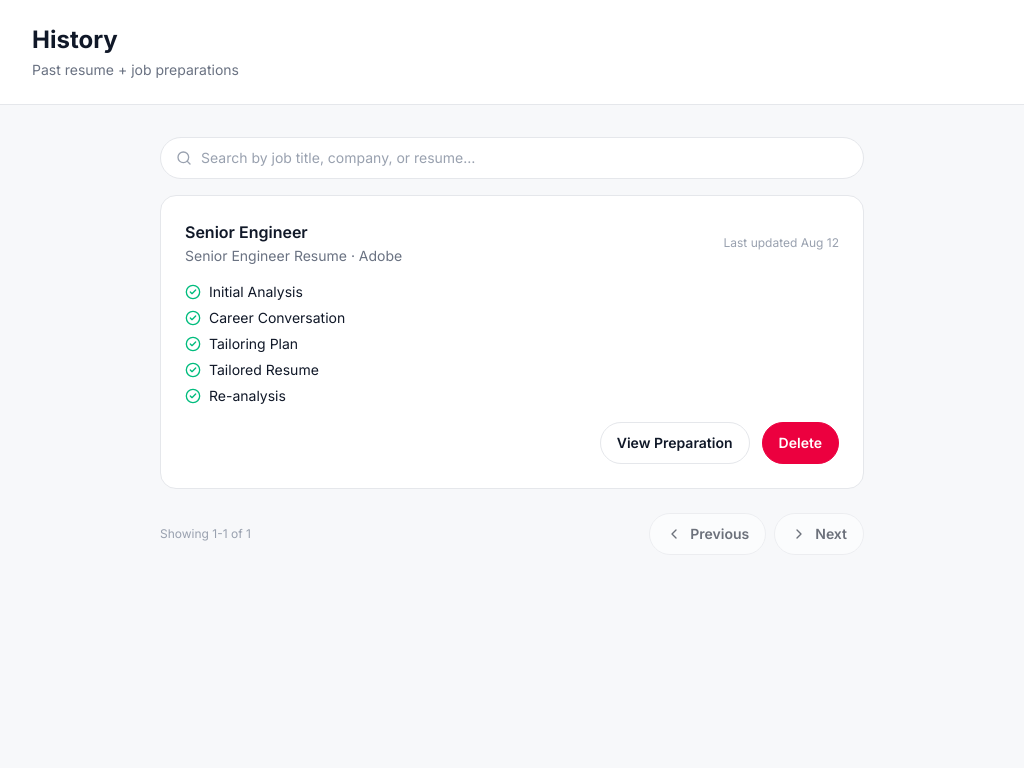
HistoryPage › opens a preparation and renders its persisted checkpoint data
Check: the heading "Senior Engineer" is shown, box x1=185 y1=222 x2=308 y2=242
Click the button "View Preparation" at (675, 443), box x1=600 y1=422 x2=750 y2=464
(page scrolled)
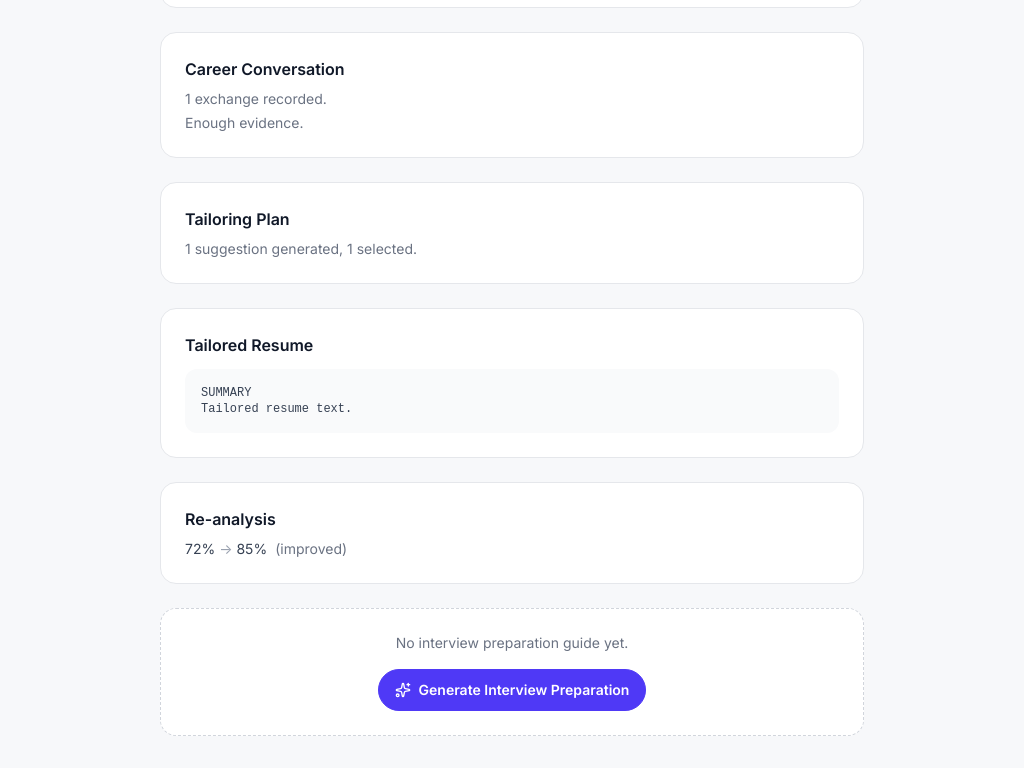
Check: the text "1 exchange recorded." is shown, box x1=185 y1=90 x2=327 y2=107
Check: the text "Enough evidence." is shown, box x1=185 y1=114 x2=304 y2=131
Check: the text "1 suggestion generated, 1 selected." is shown, box x1=185 y1=240 x2=417 y2=257
